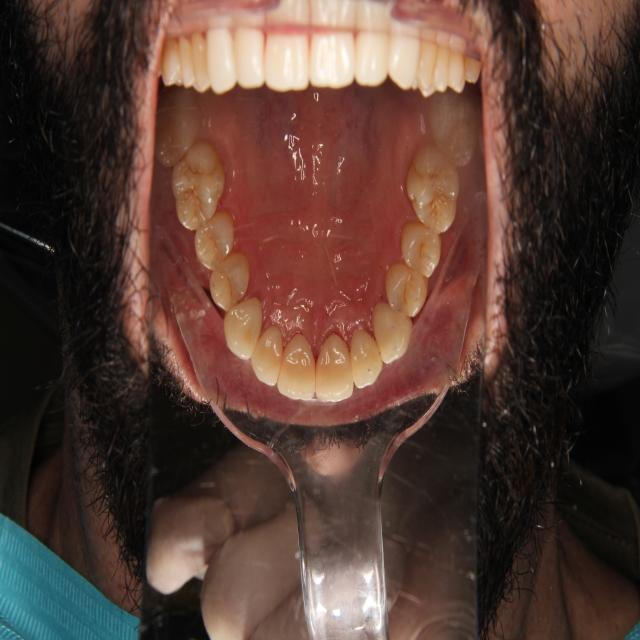tooth: (405, 130, 462, 237), (164, 142, 230, 231), (213, 283, 272, 373), (364, 287, 419, 376), (425, 87, 482, 170), (272, 318, 322, 412), (152, 93, 203, 176), (312, 321, 356, 409), (187, 201, 240, 273), (204, 247, 255, 320), (376, 253, 429, 320), (343, 307, 385, 391), (396, 219, 452, 279), (251, 315, 286, 394)
